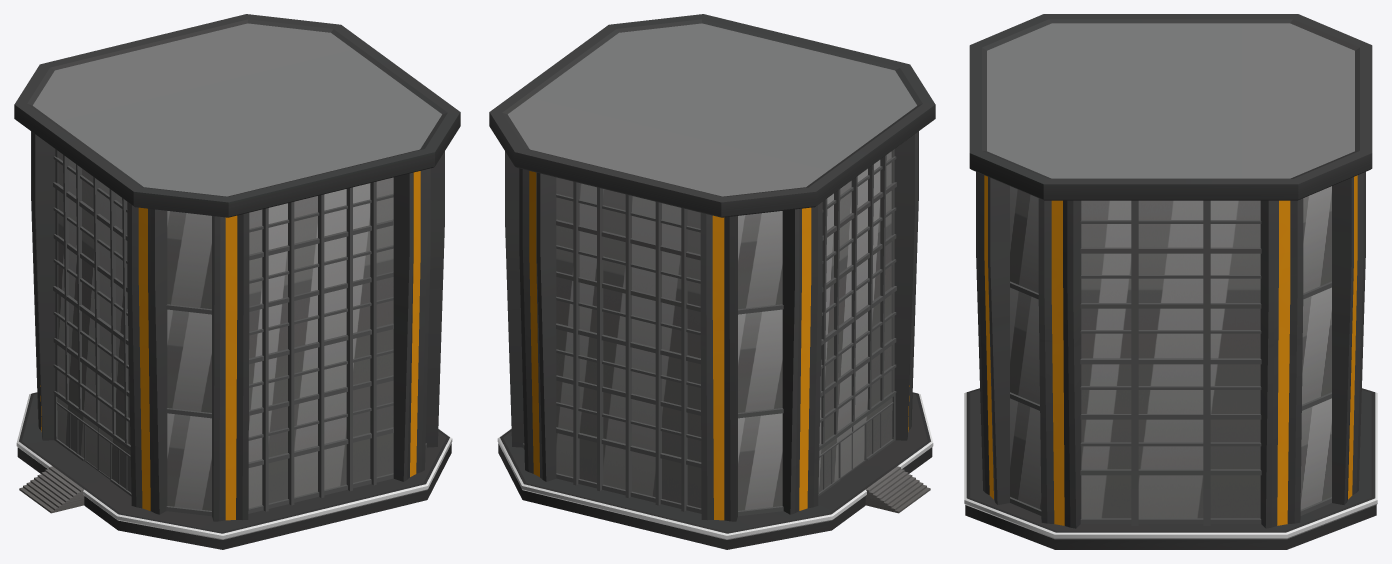
The model's file is Building_7_3_E.glb.
The picture shows the model from 3 angles, left to right: view 1: azimuth 30°, elevation 25°; view 2: azimuth 150°, elevation 25°; view 3: azimuth 270°, elevation 25°; orthographic projection. The views are drawn at different scales.
Visible parts, largest first — view 1: Building_7_3_E; view 2: Building_7_3_E; view 3: Building_7_3_E.
Boxes of the visible parts, left/top/right/bottom form: Building_7_3_E: left=14, top=14, right=460, bottom=549; Building_7_3_E: left=489, top=14, right=935, bottom=549; Building_7_3_E: left=964, top=14, right=1377, bottom=549.
Bounding box in the file's own units: 25.2 × 22.67 × 23.11.
4 materials, 4 textured.
